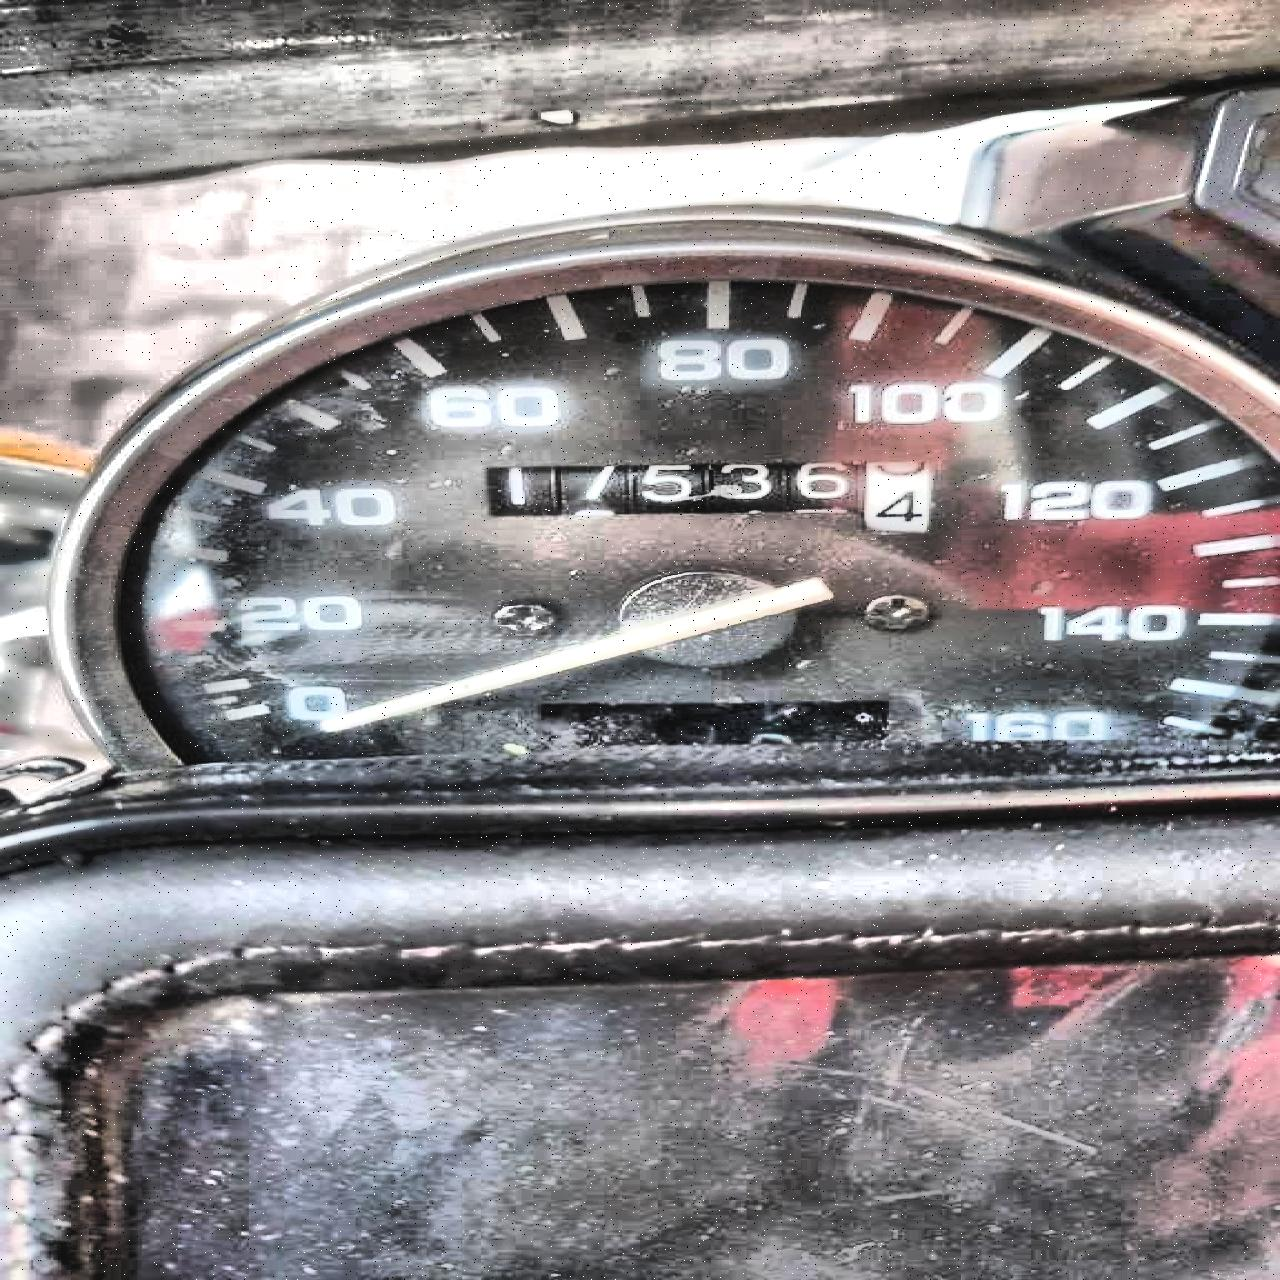1: (498, 464, 529, 506)
3: (713, 461, 771, 501)
4: (869, 486, 930, 524)
5: (635, 462, 694, 503)
6: (791, 459, 849, 501)
7: (571, 462, 613, 498)
odometer: (478, 455, 942, 537)
